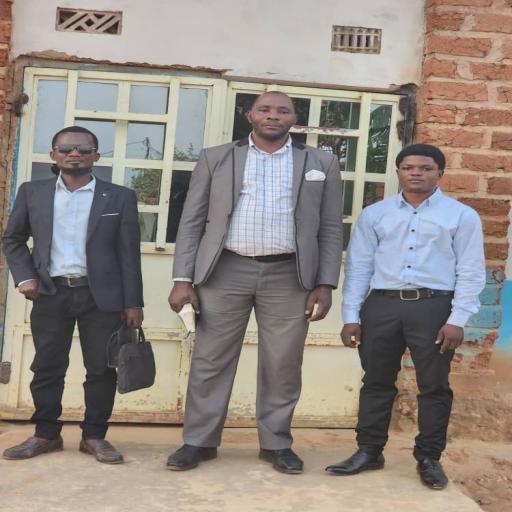MATTHIEU: (42, 121, 106, 179)
